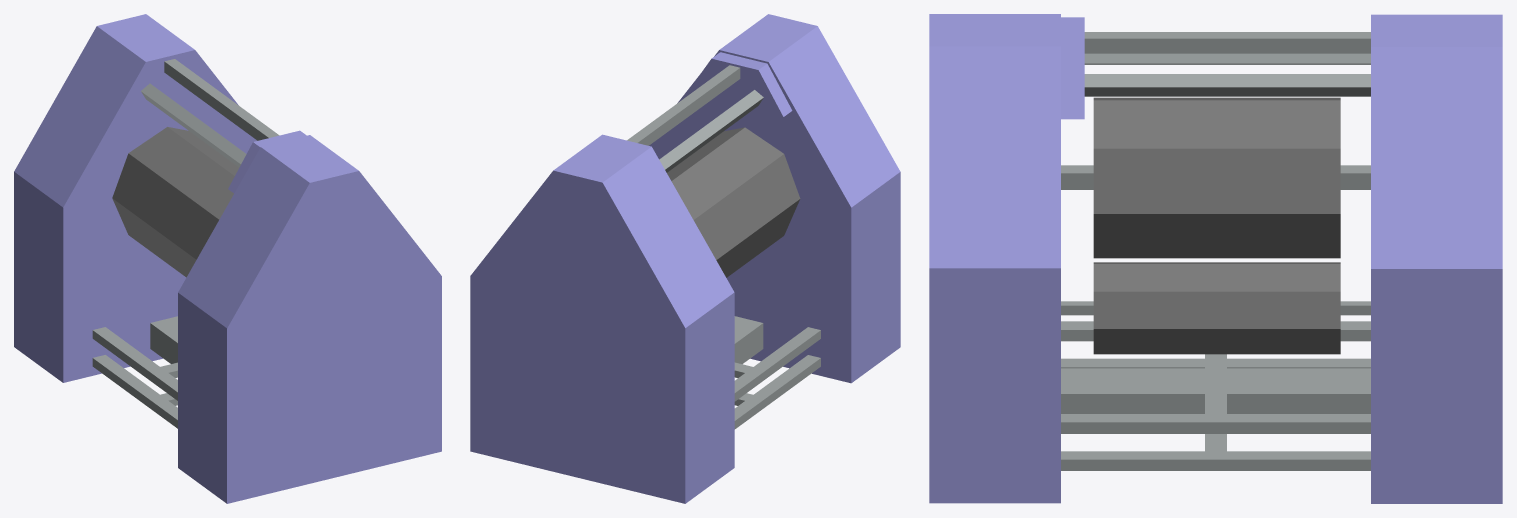
The model's file is Rebobinadeira.fbx.
3 renders of one model, left to right at view 1: azimuth 30°, elevation 25°; view 2: azimuth 150°, elevation 25°; view 3: azimuth 270°, elevation 25°, orthographic. The views are drawn at different scales.
Parts seen in each view (by area): view 1: Cube.001; view 2: Cube.001; view 3: Cube.001.
Boxes of the visible parts, x1,y1,x2,y2 form: Cube.001: [14, 14, 441, 503]; Cube.001: [470, 14, 900, 503]; Cube.001: [929, 14, 1502, 503].
Bounding box in the file's own units: 201 × 268 × 345.
